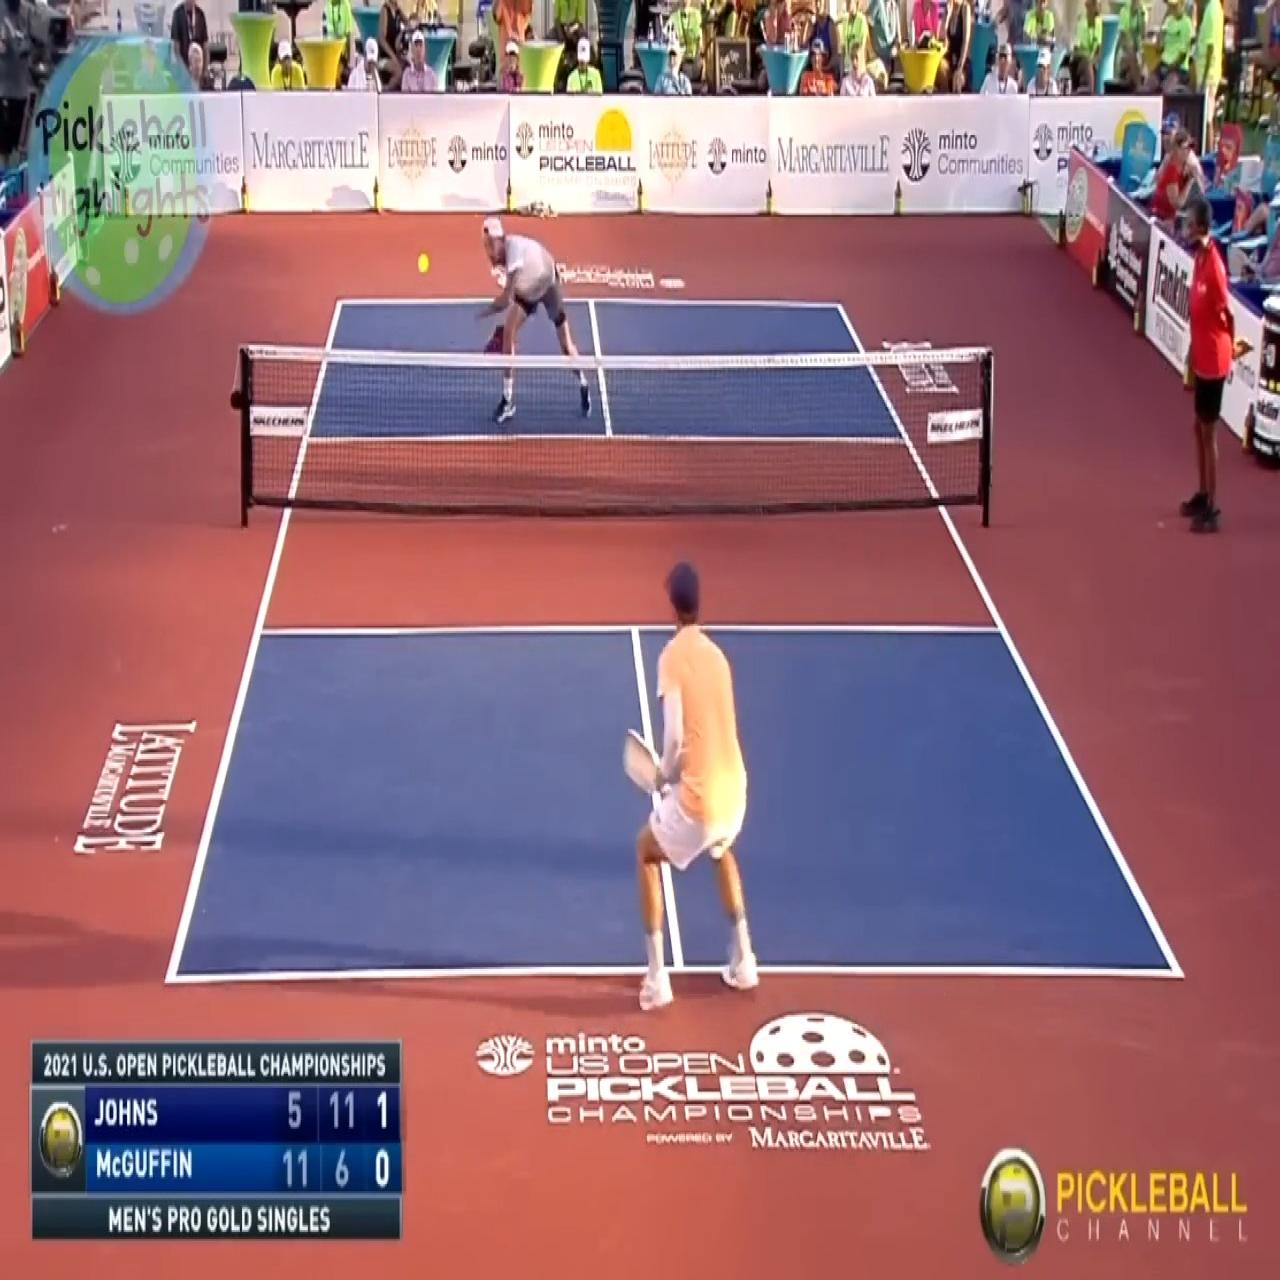pickleball: (417, 252, 429, 272)
